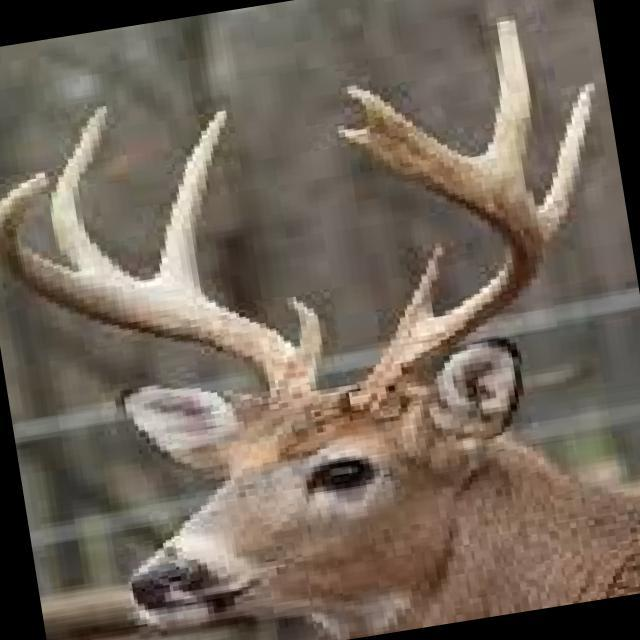E1: (347, 84, 416, 127)
L-F: (334, 125, 553, 412)
L-G1: (391, 243, 444, 343)
R-F: (0, 169, 317, 403)
R-G1: (287, 296, 324, 368)
R-G2: (154, 109, 228, 291)
R-G3: (50, 106, 133, 279)
